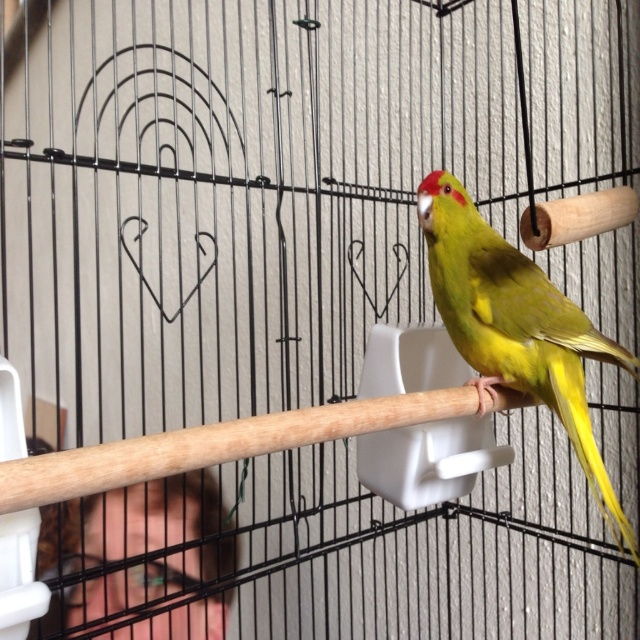Parrot: (416, 166, 640, 566)
